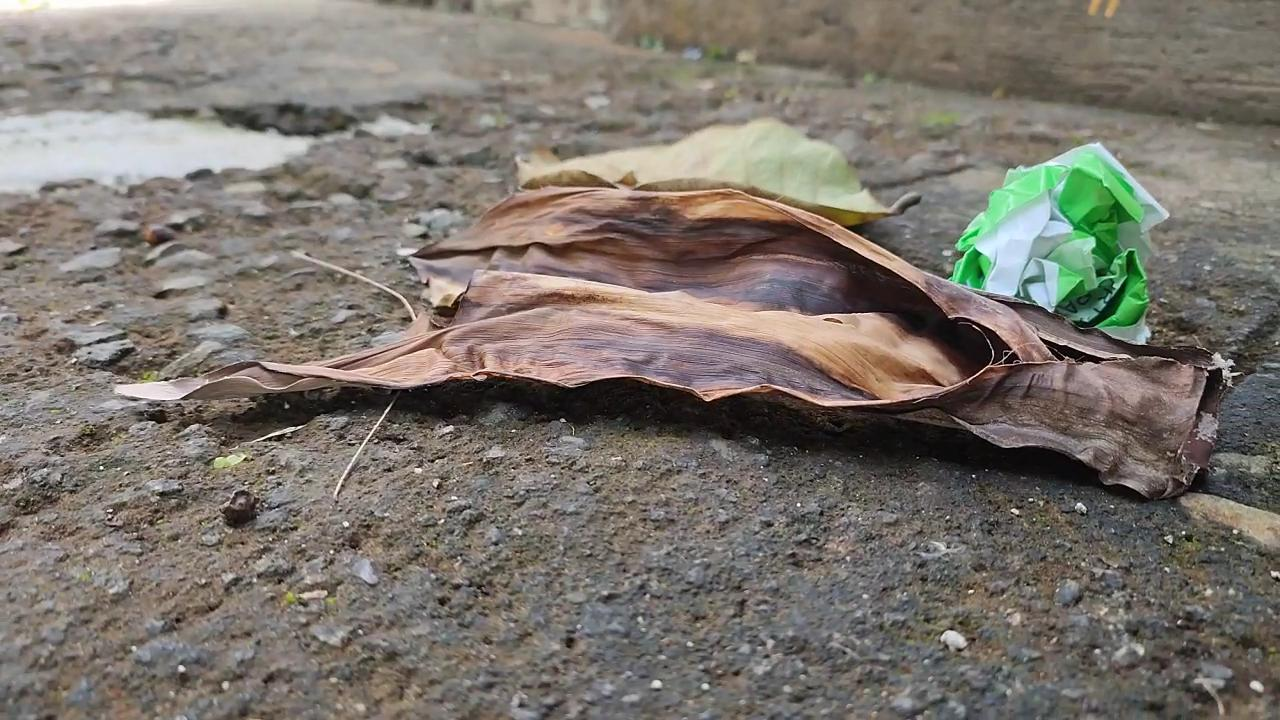Paper: (943, 112, 1174, 361)
